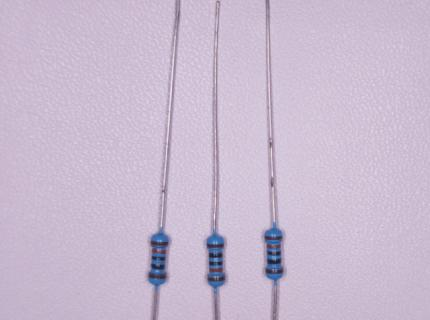Black band: (152, 263, 165, 270), (267, 251, 281, 256), (267, 259, 281, 264), (152, 256, 165, 261), (209, 253, 222, 258), (209, 261, 223, 265)
Brown band: (149, 273, 167, 279), (208, 276, 225, 282), (266, 268, 283, 274), (207, 243, 223, 248), (151, 241, 169, 245), (265, 236, 282, 240)
Orange band: (152, 249, 166, 254), (267, 245, 281, 249), (210, 268, 223, 272)
